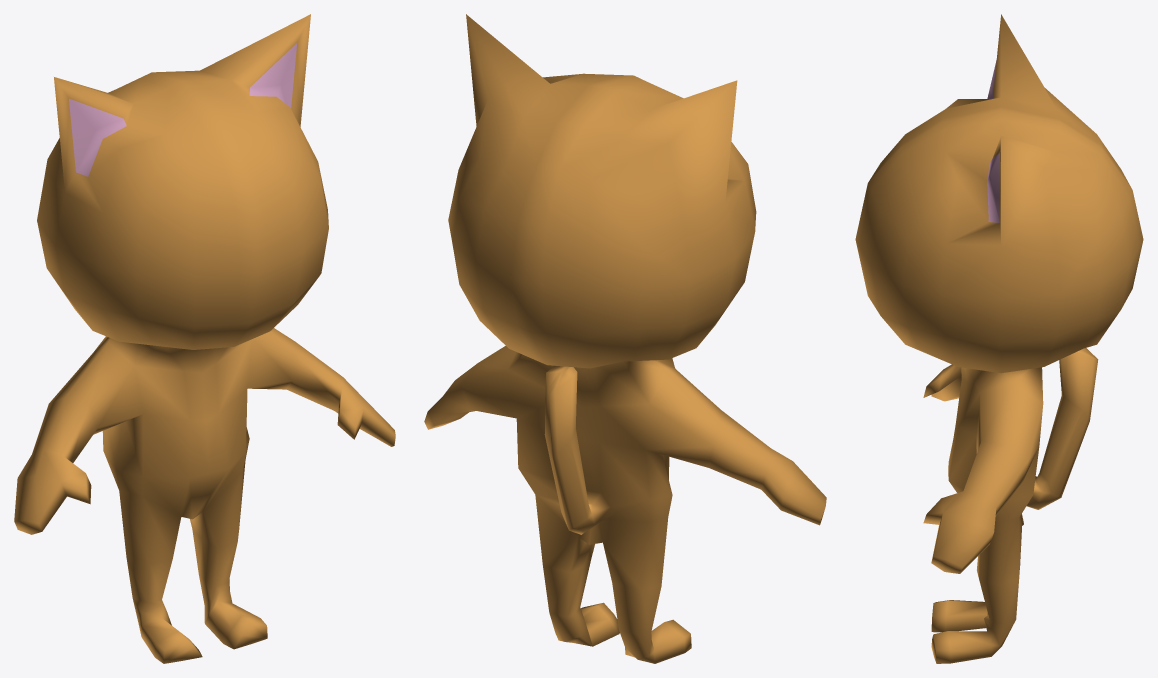
The model's file is Cat.fbx.
3 renders of one model, left to right at view 1: azimuth 30°, elevation 25°; view 2: azimuth 150°, elevation 25°; view 3: azimuth 270°, elevation 25°, orthographic. The views are drawn at different scales.
Parts seen in each view (by area): view 1: Cat; view 2: Cat; view 3: Cat.
Part boxes in pixels (x1,y1,x2,y2): Cat: [14, 14, 395, 663]; Cat: [424, 14, 826, 663]; Cat: [855, 14, 1143, 663].
Bounding box in the file's own units: 513 × 758 × 350.
